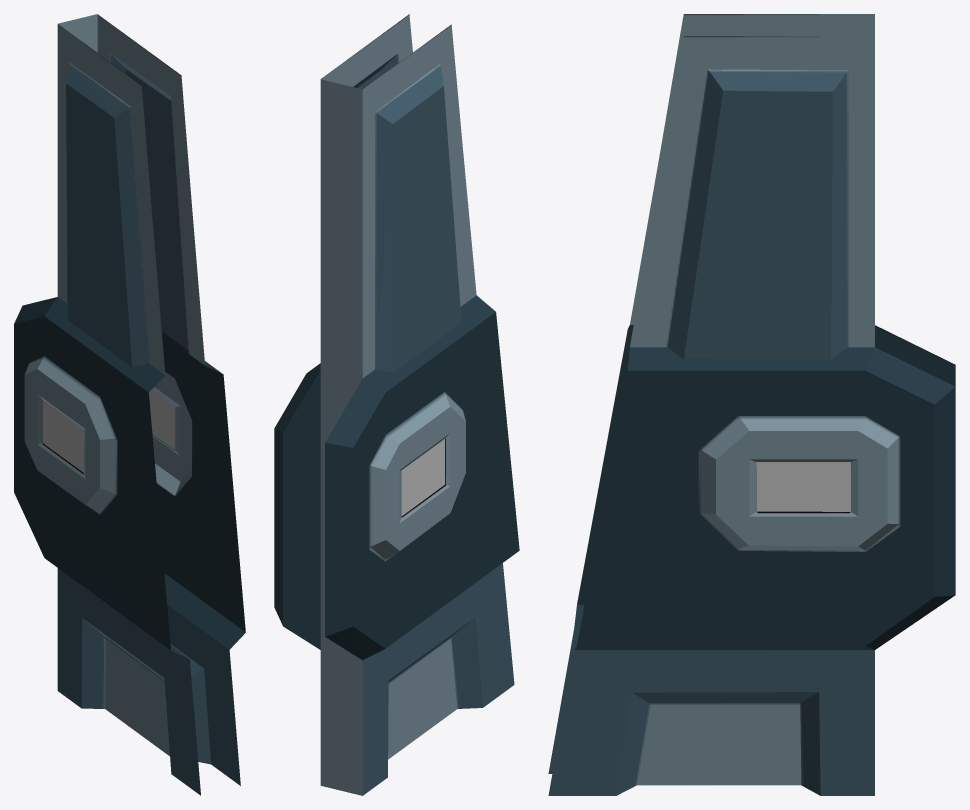
File: door_leftSide.FBX
3 renders of one model, left to right at view 1: azimuth 30°, elevation 25°; view 2: azimuth 150°, elevation 25°; view 3: azimuth 270°, elevation 25°, orthographic. The views are drawn at different scales.
Parts seen in each view (by area): view 1: door_leftSide; view 2: door_leftSide; view 3: door_leftSide.
Boxes of the visible parts, x1,y1,x2,y2 form: door_leftSide: (14,14,245,795); door_leftSide: (274,14,519,795); door_leftSide: (548,14,955,795).
Bounding box in the file's own units: 52.68 × 353 × 172.
